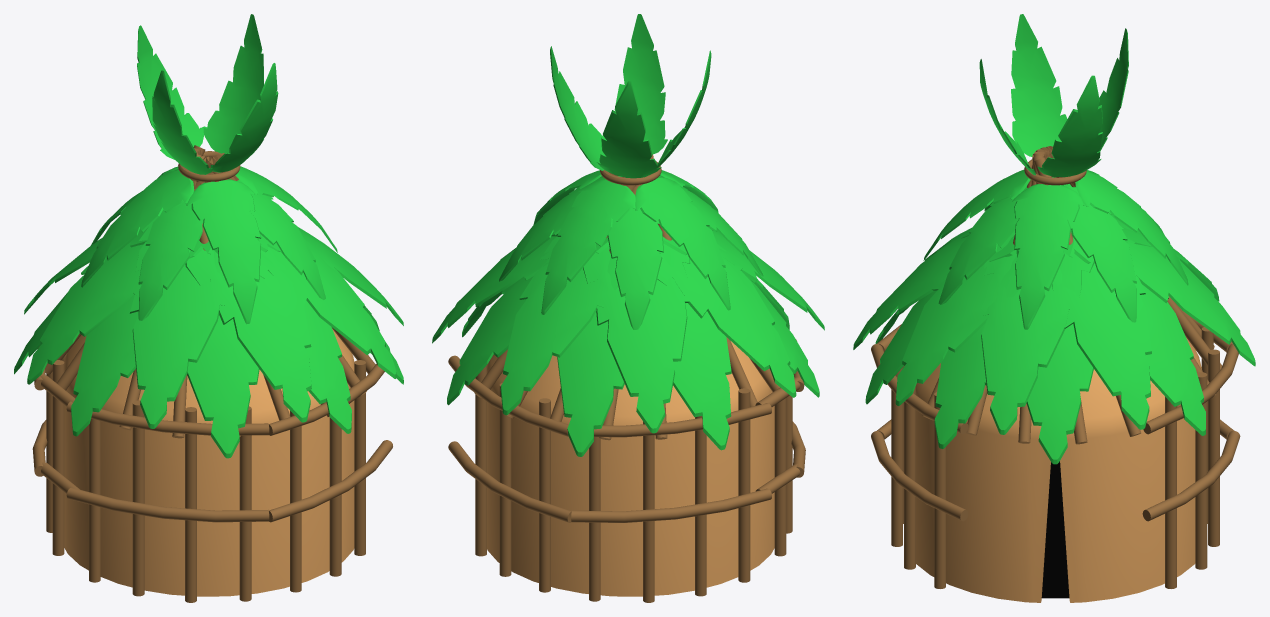
Rendered from innTemp.fbx.
The picture shows the model from 3 angles, left to right: view 1: azimuth 30°, elevation 25°; view 2: azimuth 150°, elevation 25°; view 3: azimuth 270°, elevation 25°; orthographic projection.
Visible parts, largest first — view 1: hutBase_mid, palmMid_mid, palmTop_mid, stickBottom_mid, palmLow_mid, palmHat_mid, stickCurve_mid, stickTop_mid, stickHat_mid; view 2: hutBase_mid, palmMid_mid, palmTop_mid, palmLow_mid, stickBottom_mid, palmHat_mid, stickCurve_mid, stickTop_mid; view 3: hutBase_mid, palmMid_mid, palmTop_mid, palmLow_mid, stickBottom_mid, palmHat_mid, stickCurve_mid, stickTop_mid, inside.
Part boxes in pixels (x1,y1,x2,y2): hutBase_mid: (64,329,354,596); palmMid_mid: (24,223,403,428); palmTop_mid: (81,166,337,324); stickBottom_mid: (46,353,365,602); palmLow_mid: (14,292,403,458); palmHat_mid: (137,14,278,174); stickCurve_mid: (32,346,392,522); stickTop_mid: (45,145,375,438); stickHat_mid: (178,151,240,181); hutBase_mid: (487,341,774,596); palmMid_mid: (432,228,824,433); palmTop_mid: (499,170,763,329); palmLow_mid: (447,275,819,456); stickBottom_mid: (475,365,792,602); palmHat_mid: (550,14,711,178); stickCurve_mid: (448,339,805,522); stickTop_mid: (474,154,779,440); hutBase_mid: (916,337,1202,602); palmMid_mid: (853,214,1255,434); palmTop_mid: (923,169,1188,329); palmLow_mid: (865,284,1205,464); stickBottom_mid: (891,327,1219,588); palmHat_mid: (979,14,1128,177); stickCurve_mid: (871,317,1240,521); stickTop_mid: (895,146,1222,444); inside: (1041,461,1069,598).
Size of the model in its own units: 561 by 769 by 566.
